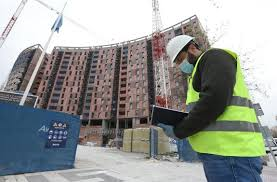Helmet: (166, 36, 194, 65)
Jacket: (180, 82, 265, 160)
Mask: (177, 64, 196, 77)
